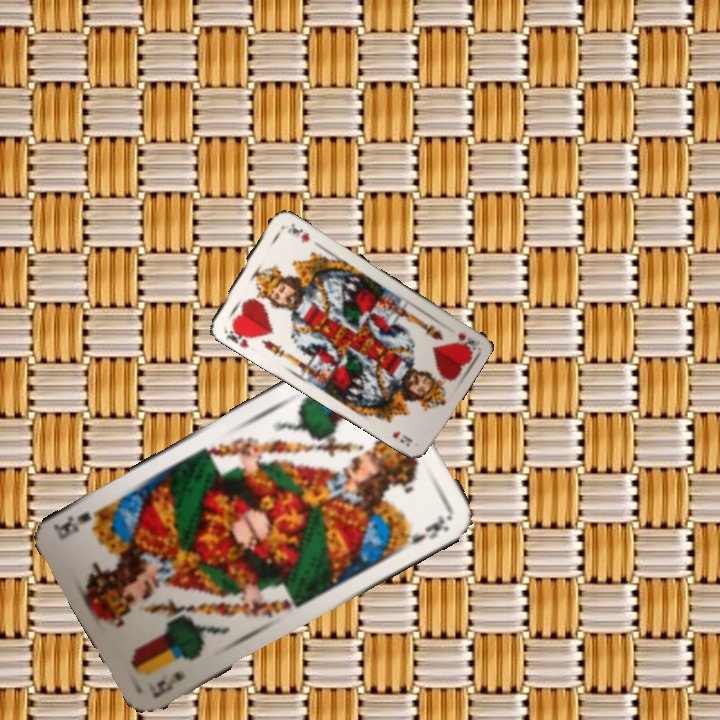EK: (150, 667, 188, 699)
HK: (219, 321, 255, 351), (454, 328, 478, 350)
